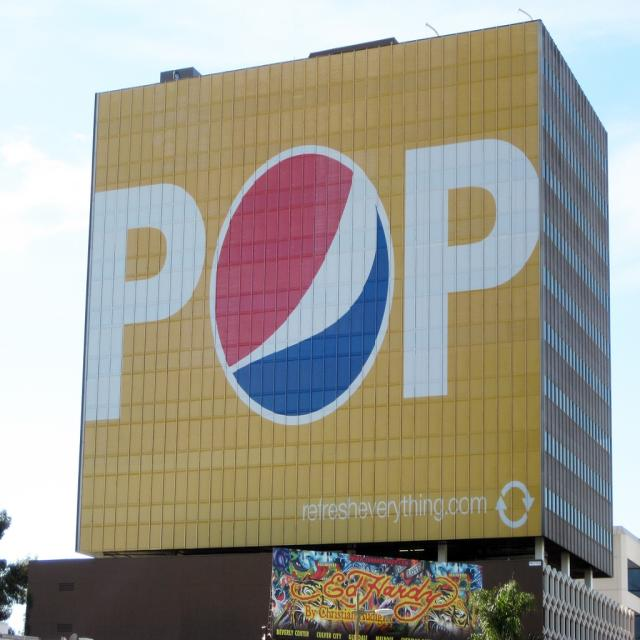pepsi: (209, 140, 403, 426)
